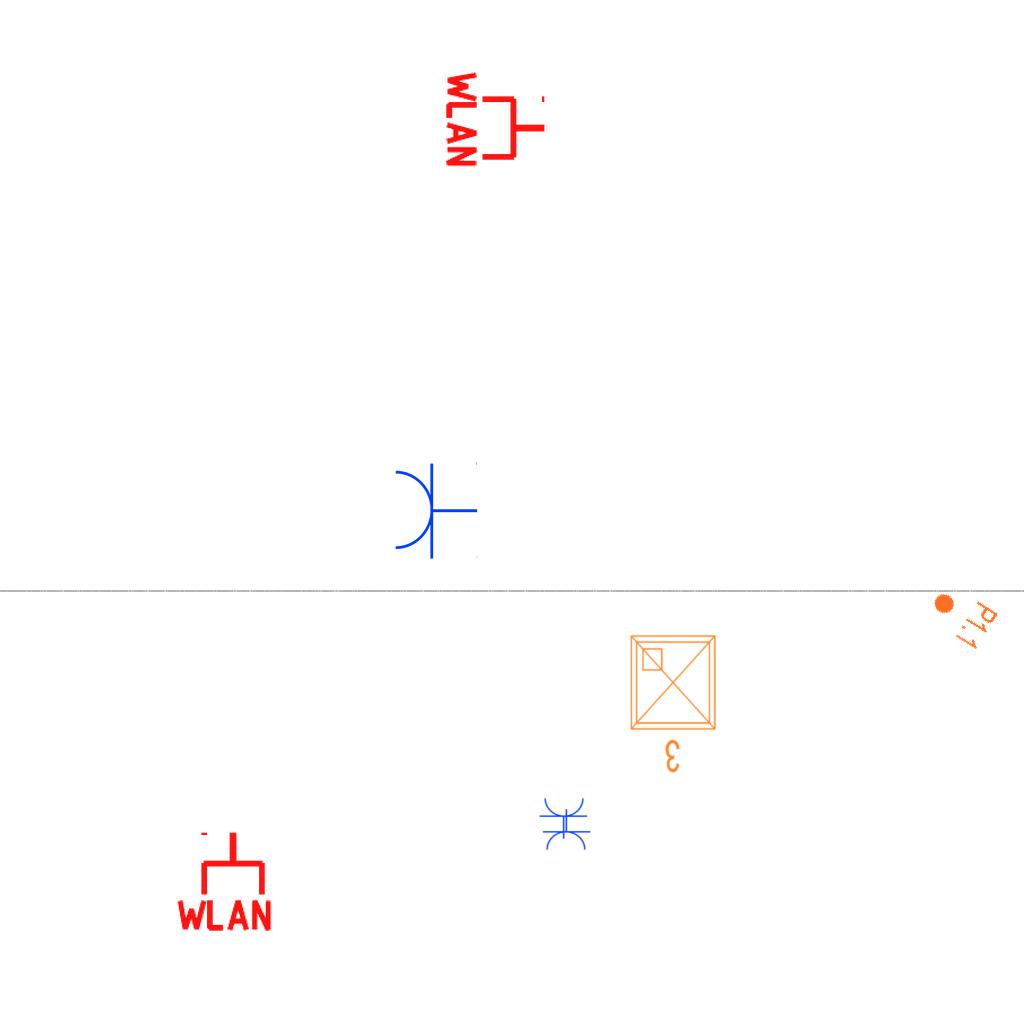Downlight_LED_Einbauleuchten_Flur: (921, 579, 1001, 653)
Einbaudownlights_LED_Konferenzraeume: (623, 628, 727, 778)
Schukosteckdose_einfach: (391, 460, 478, 560), (539, 796, 589, 839), (541, 809, 591, 852)
WLAN: (172, 828, 276, 933), (444, 67, 549, 171)
